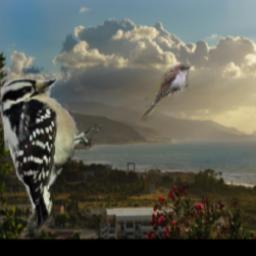Cuckoo: (139, 64, 191, 121)
Woodpecker: (0, 74, 101, 233)
